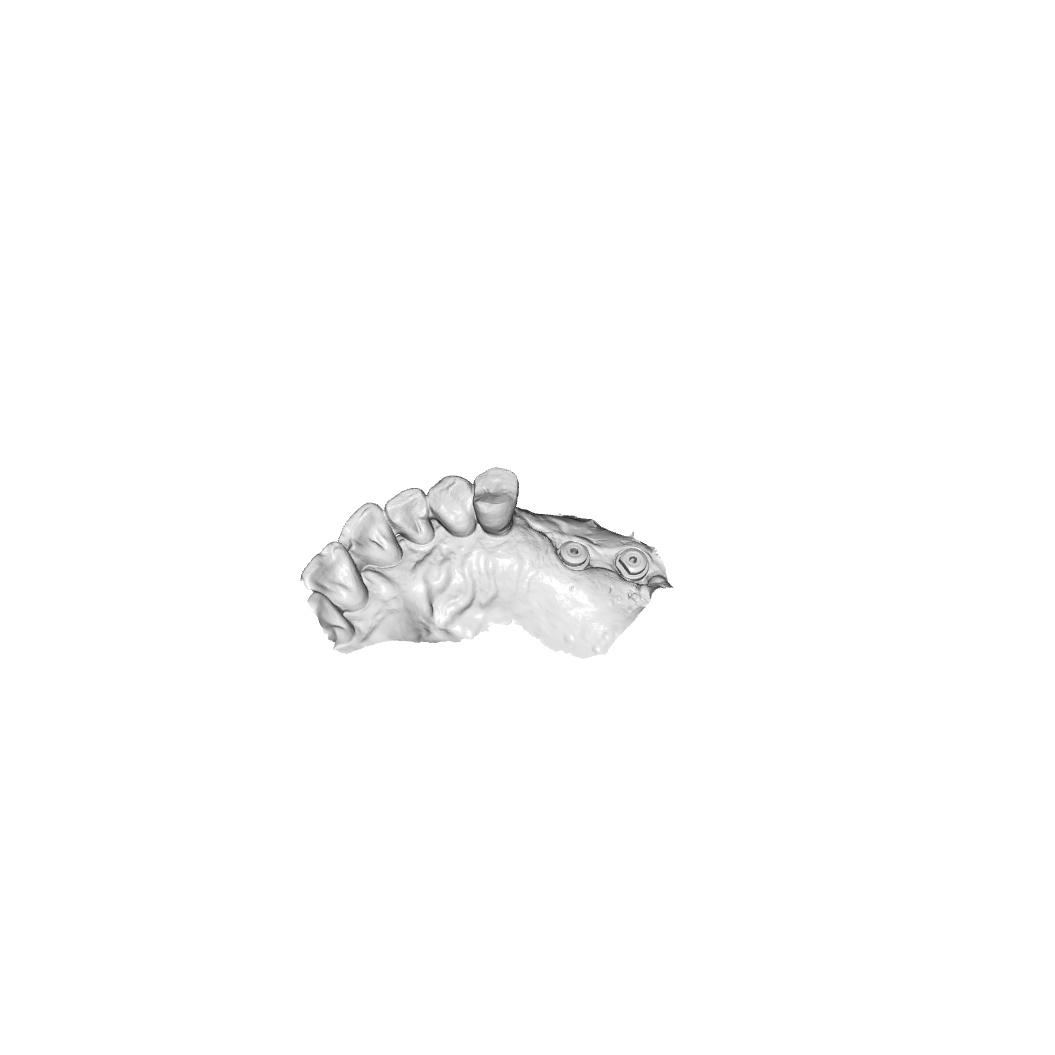canine: (427, 474, 478, 538)
implant: (613, 546, 651, 583), (555, 539, 592, 572)
incisor: (298, 540, 369, 612), (336, 501, 403, 569), (383, 486, 435, 546)
premolar: (472, 465, 521, 539)
